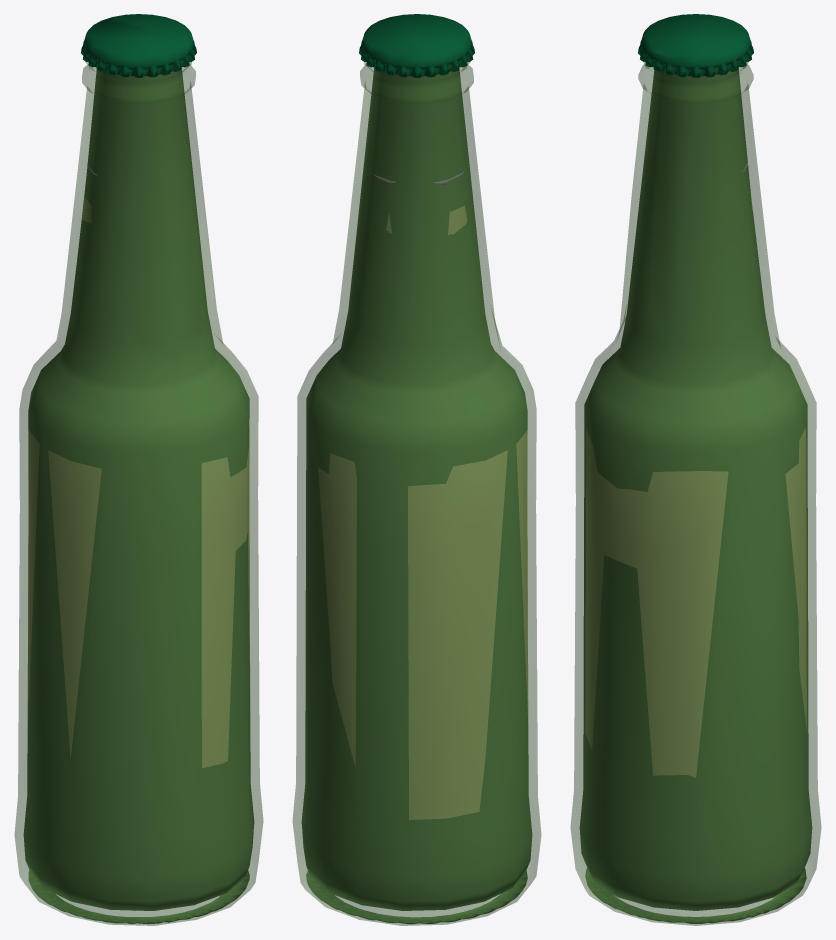
The model's file is cerveja-long-neck.glb.
The picture shows the model from 3 angles, left to right: view 1: azimuth 30°, elevation 25°; view 2: azimuth 150°, elevation 25°; view 3: azimuth 270°, elevation 25°; orthographic projection.
Parts seen in each view (by area): view 1: GARRAFA_VIDRO FORA_0, GARRAFA_VIDRO DENTRO_0, GARRAFA_LIQUIDO_0, GARRAFA_TAMPA_0; view 2: GARRAFA_VIDRO FORA_0, GARRAFA_VIDRO DENTRO_0, GARRAFA_LIQUIDO_0, GARRAFA_TAMPA_0; view 3: GARRAFA_VIDRO FORA_0, GARRAFA_VIDRO DENTRO_0, GARRAFA_LIQUIDO_0, GARRAFA_TAMPA_0.
Part boxes in pixels (x1,y1,x2,y2): GARRAFA_VIDRO FORA_0: (14,59,263,925); GARRAFA_VIDRO DENTRO_0: (23,68,254,924); GARRAFA_LIQUIDO_0: (27,197,250,767); GARRAFA_TAMPA_0: (81,14,196,78); GARRAFA_VIDRO FORA_0: (292,59,541,925); GARRAFA_VIDRO DENTRO_0: (301,67,532,924); GARRAFA_LIQUIDO_0: (318,206,528,819); GARRAFA_TAMPA_0: (359,14,474,78); GARRAFA_VIDRO FORA_0: (570,55,821,925); GARRAFA_VIDRO DENTRO_0: (579,68,812,923); GARRAFA_LIQUIDO_0: (585,201,806,777); GARRAFA_TAMPA_0: (638,14,753,77).
Size of the model in its own units: 0.0618 by 0.23 by 0.0618.
